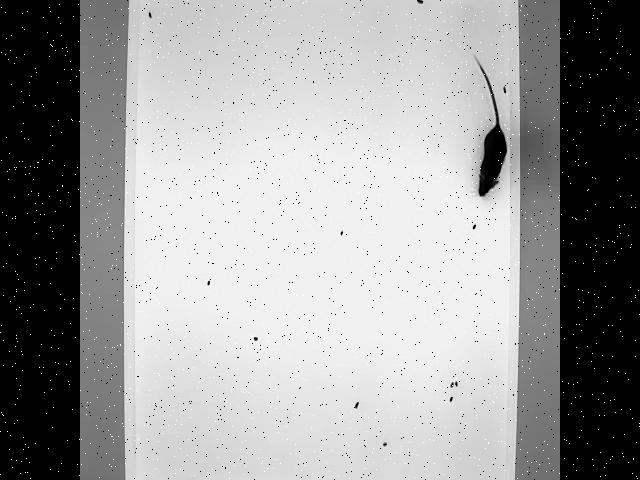Tikus: (472, 51, 509, 199)
